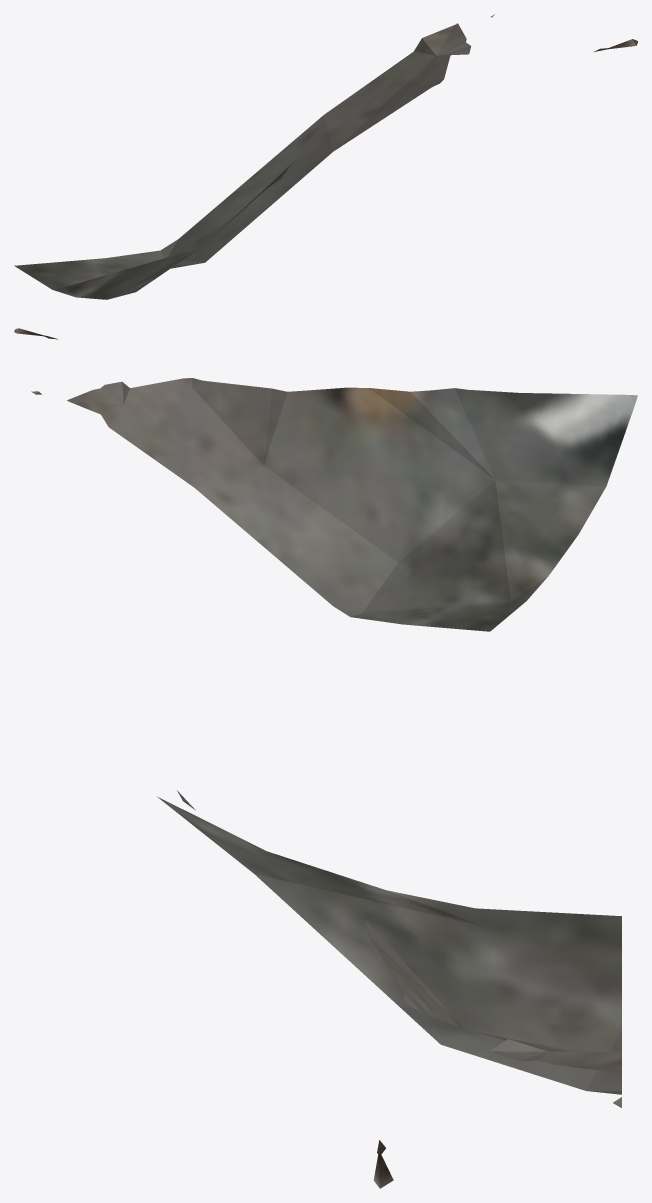
3 renders of one model, top to bottom at view 1: azimuth 30°, elevation 25°; view 2: azimuth 150°, elevation 25°; view 3: azimuth 270°, elevation 25°, orthographic. The views are drawn at different scales.
Bounding box in the file's own units: 0.4351 × 0.1158 × 0.2085.
1 material, 1 textured.
